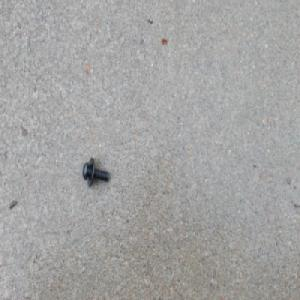BoltWasher: (81, 156, 109, 188)
